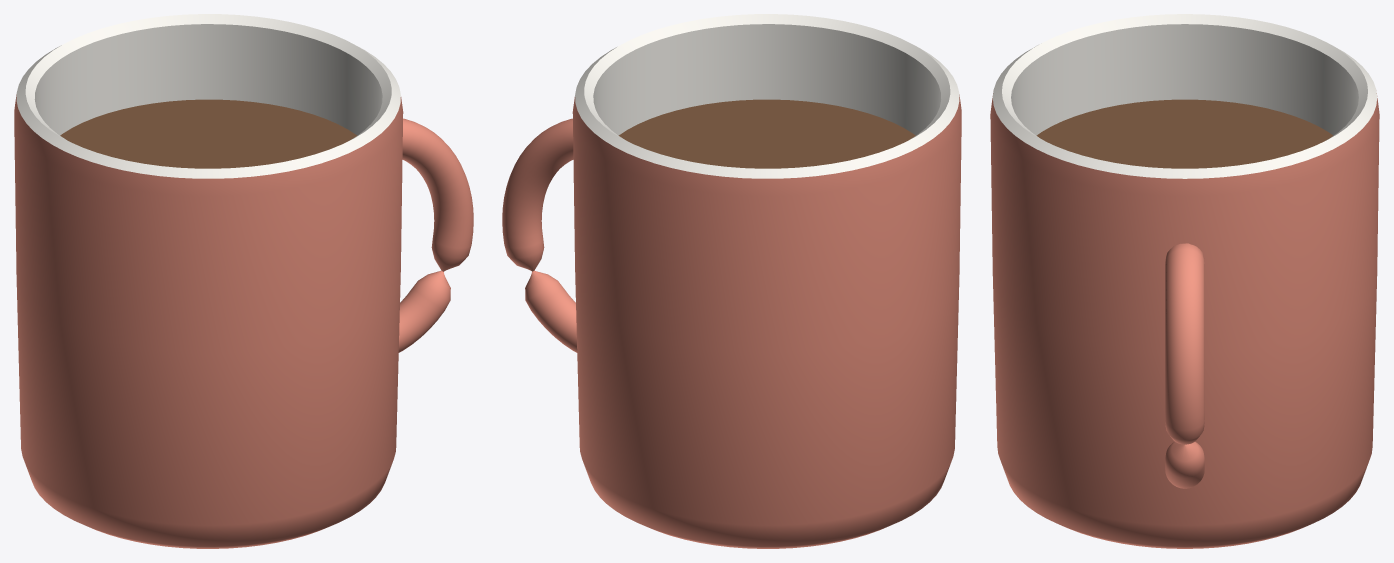
Rendered from mug.glb.
3 renders of one model, left to right at view 1: azimuth 30°, elevation 25°; view 2: azimuth 150°, elevation 25°; view 3: azimuth 270°, elevation 25°, orthographic.
Parts seen in each view (by area): view 1: Mug; view 2: Mug; view 3: Mug.
Boxes of the visible parts, left/top/right/bottom form: Mug: left=14, top=14, right=473, bottom=548; Mug: left=502, top=14, right=961, bottom=548; Mug: left=990, top=14, right=1379, bottom=548.
Size of the model in its own units: 1.09 by 0.935 by 0.85.
